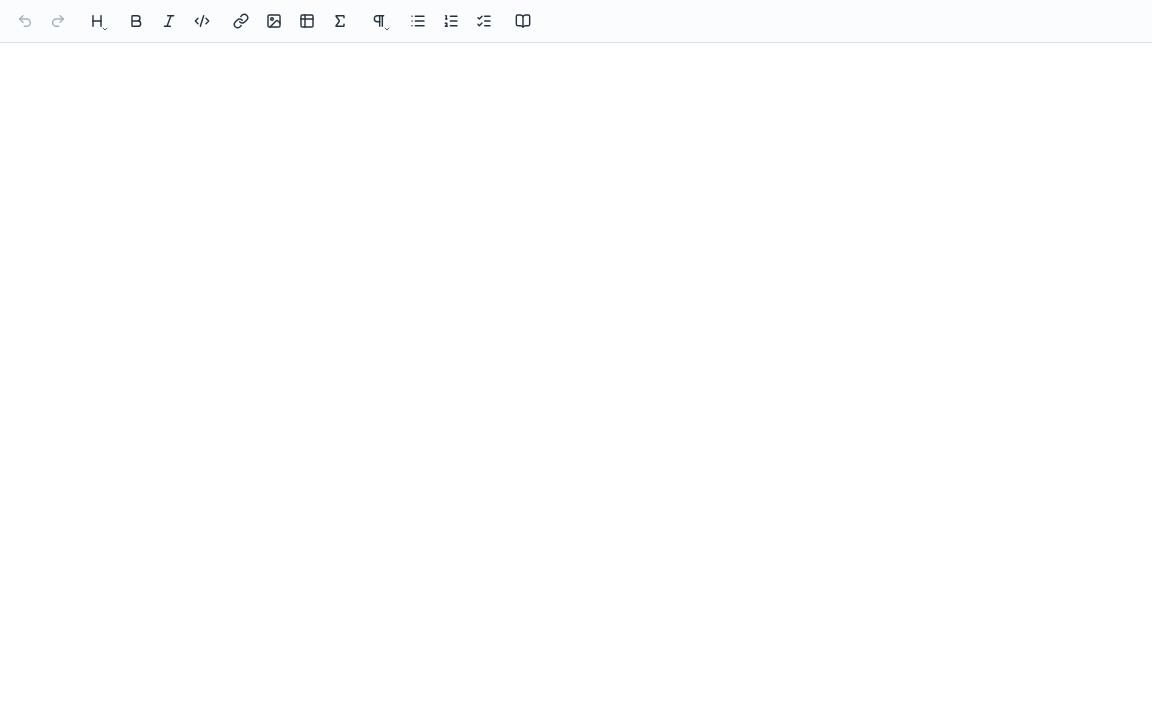
Test: MarkdownEditor › opens and closes the markdown syntax reference
Click the button named "Markdown syntax reference": (523,21) 508,6 -> 538,36
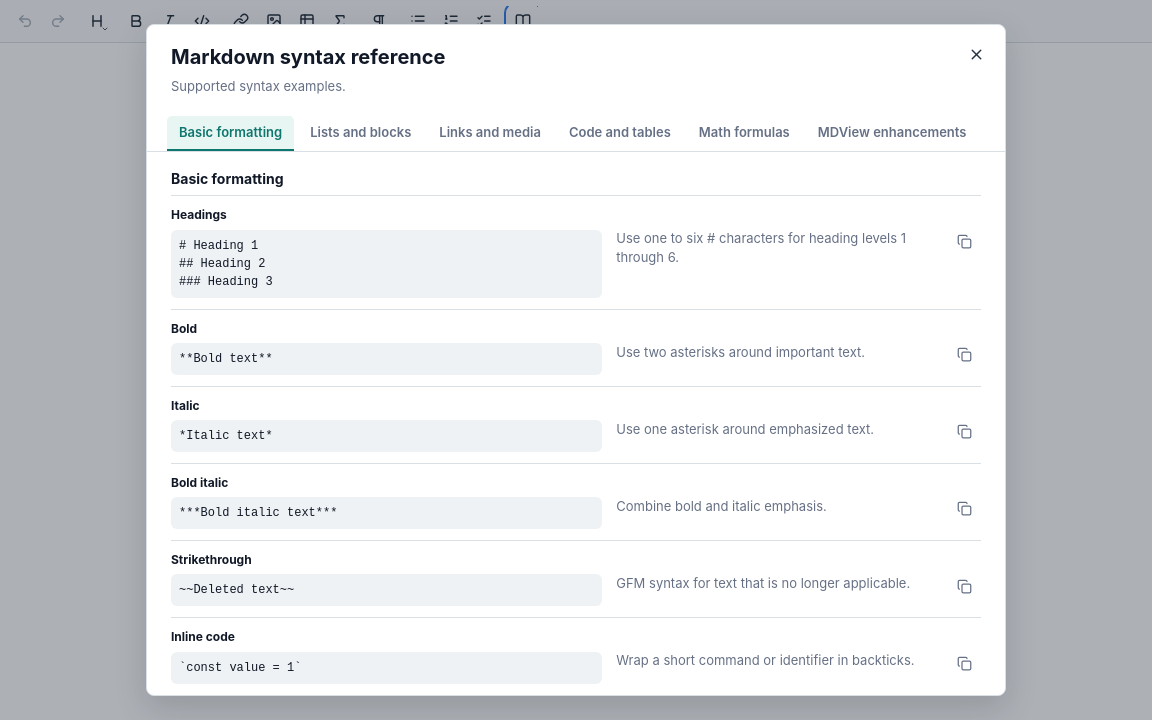
Expected: the dialog "Markdown syntax reference" is shown
Expected: the element named "Syntax categories" is shown, 147,108 -> 1005,152
Expected: the heading "Basic formatting" is shown, 171,170 -> 284,186
Click the tab "MDView enhancements": (892,133) 806,116 -> 978,150
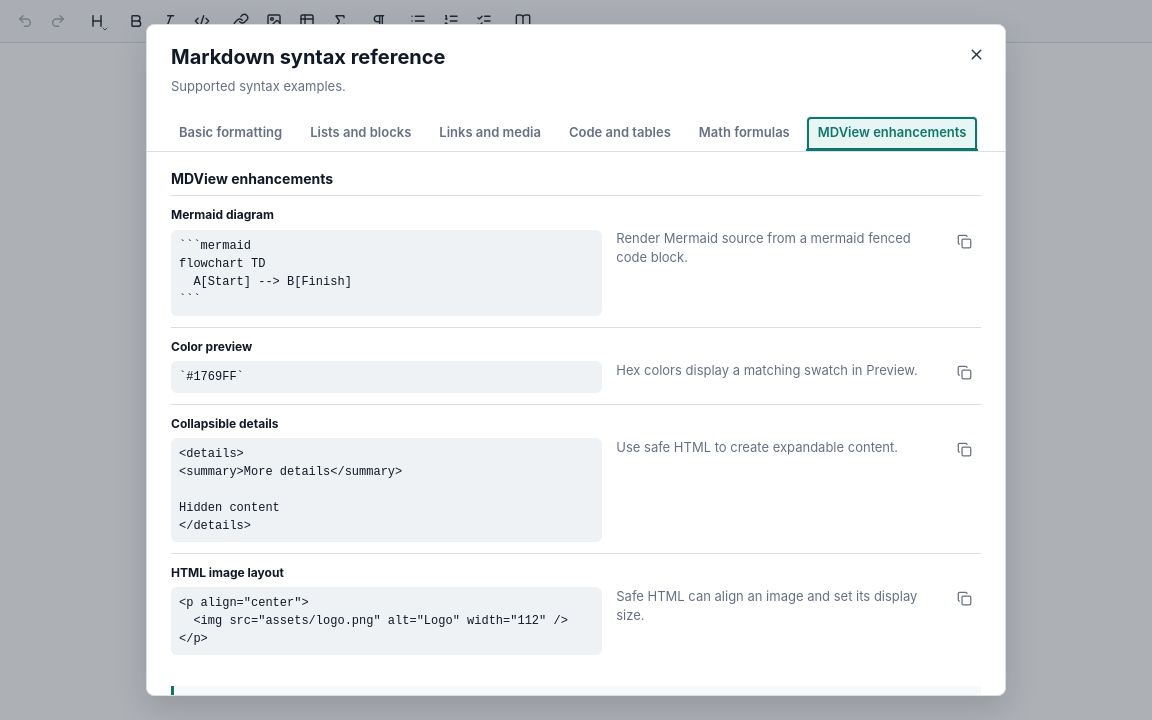
Expected: the text "Mermaid diagram" is shown, 171,207 -> 274,222
Click the button named "Close markdown syntax reference": (976,54) 959,37 -> 993,71
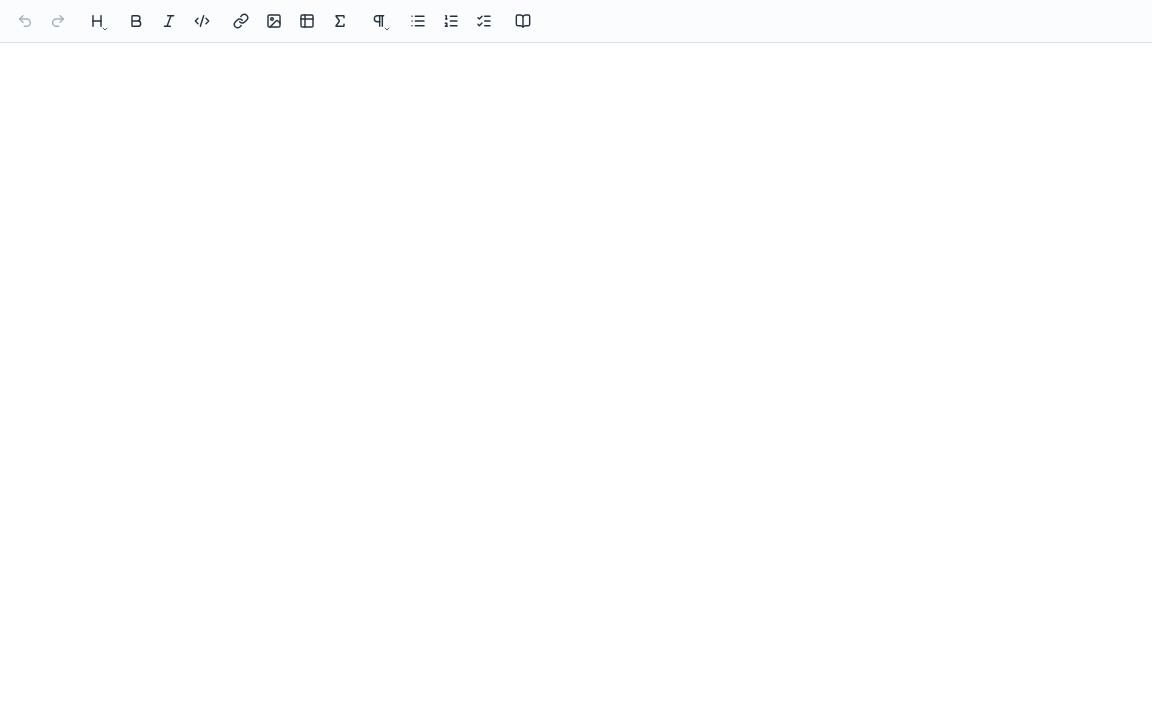
Expected: the heading "Markdown syntax reference" is gone
